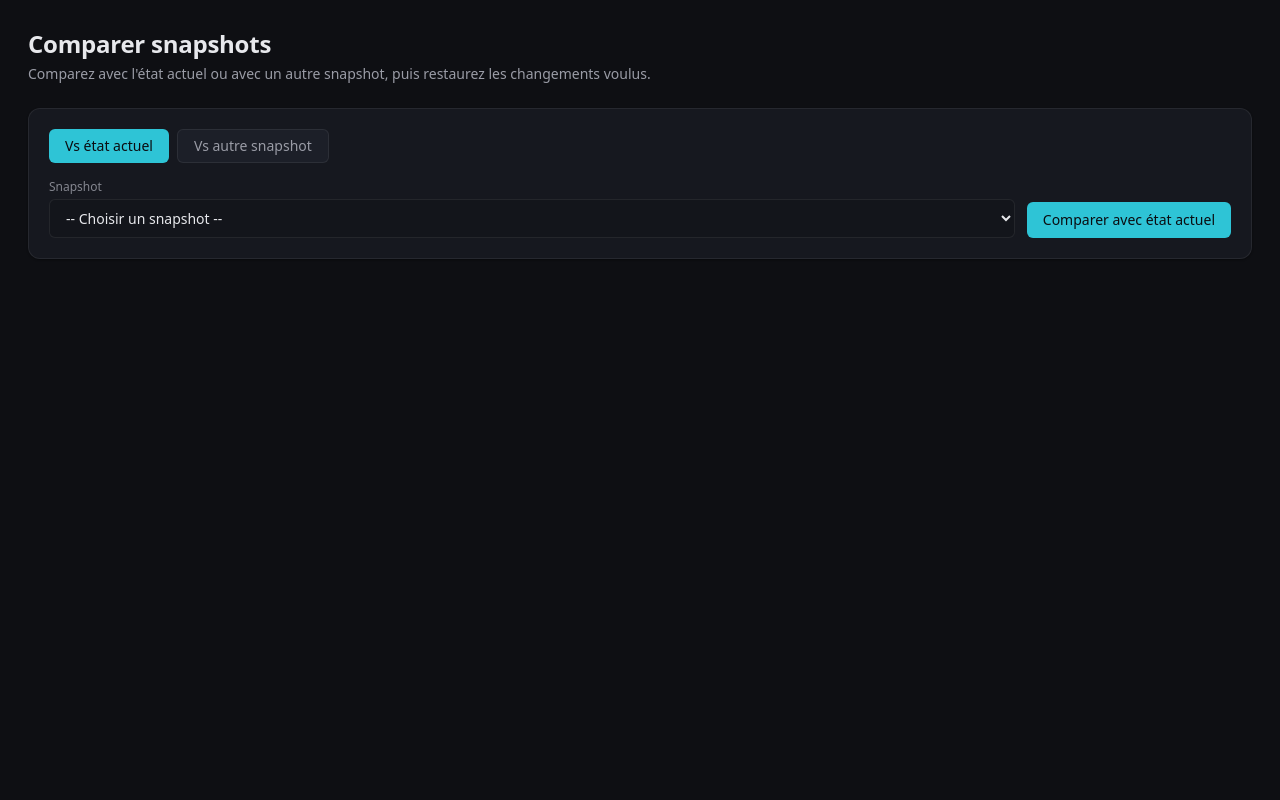
Test case: SnapshotComparePage › shows the Ajoutés filter button after a diff
Select "07/05/2026 12:00:00 (7 clés)" in the dropdown labelled "Snapshot" at (532, 218), box [49,199,1015,238]
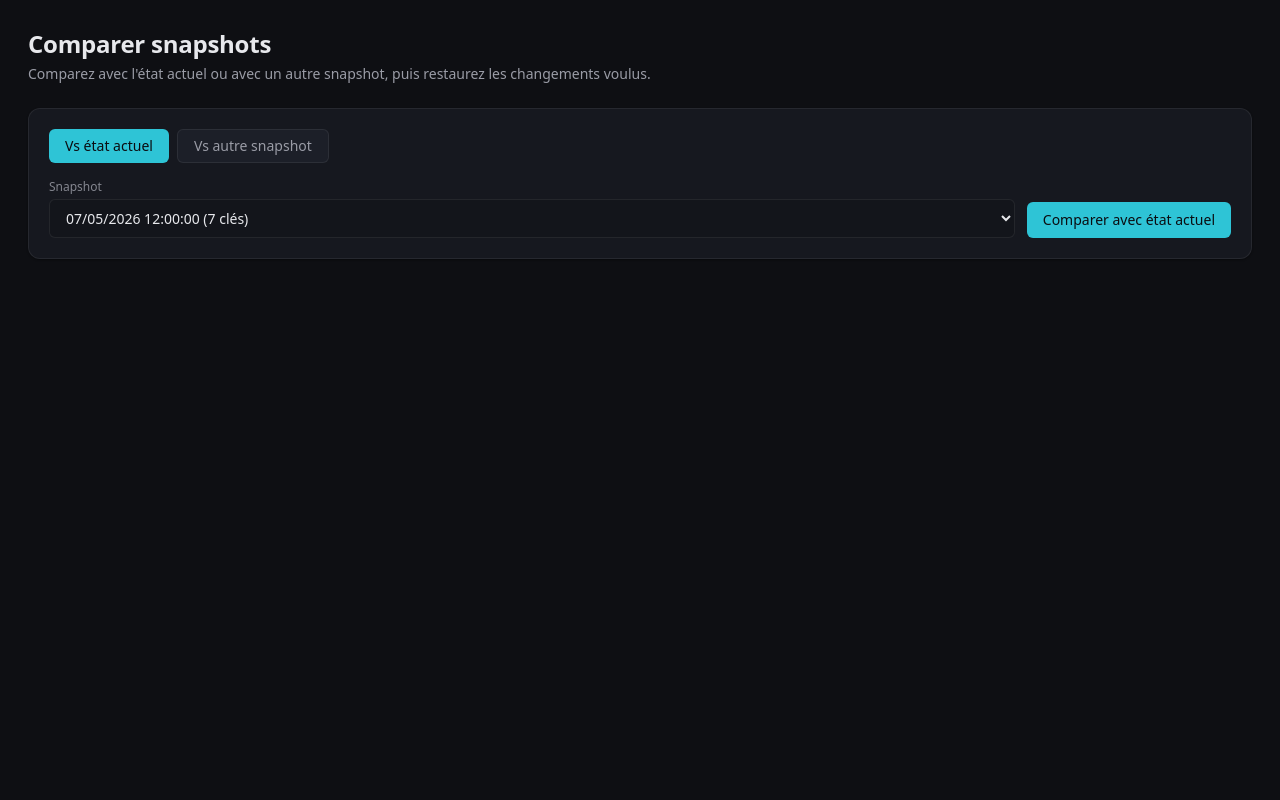
Click the button "Comparer avec état actuel" at (1129, 220), box [1027,202,1231,238]
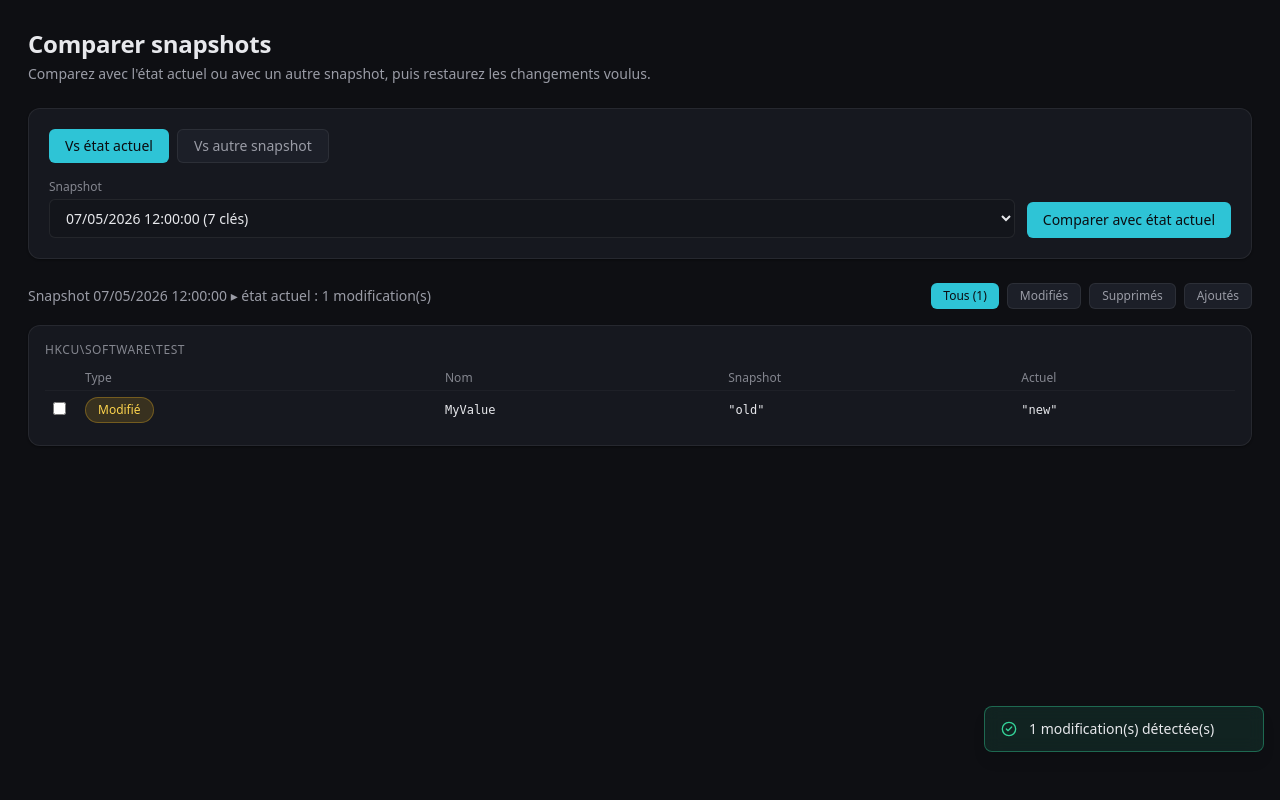
Expected: the button "Ajoutés" is shown, [1184,283,1252,309]
